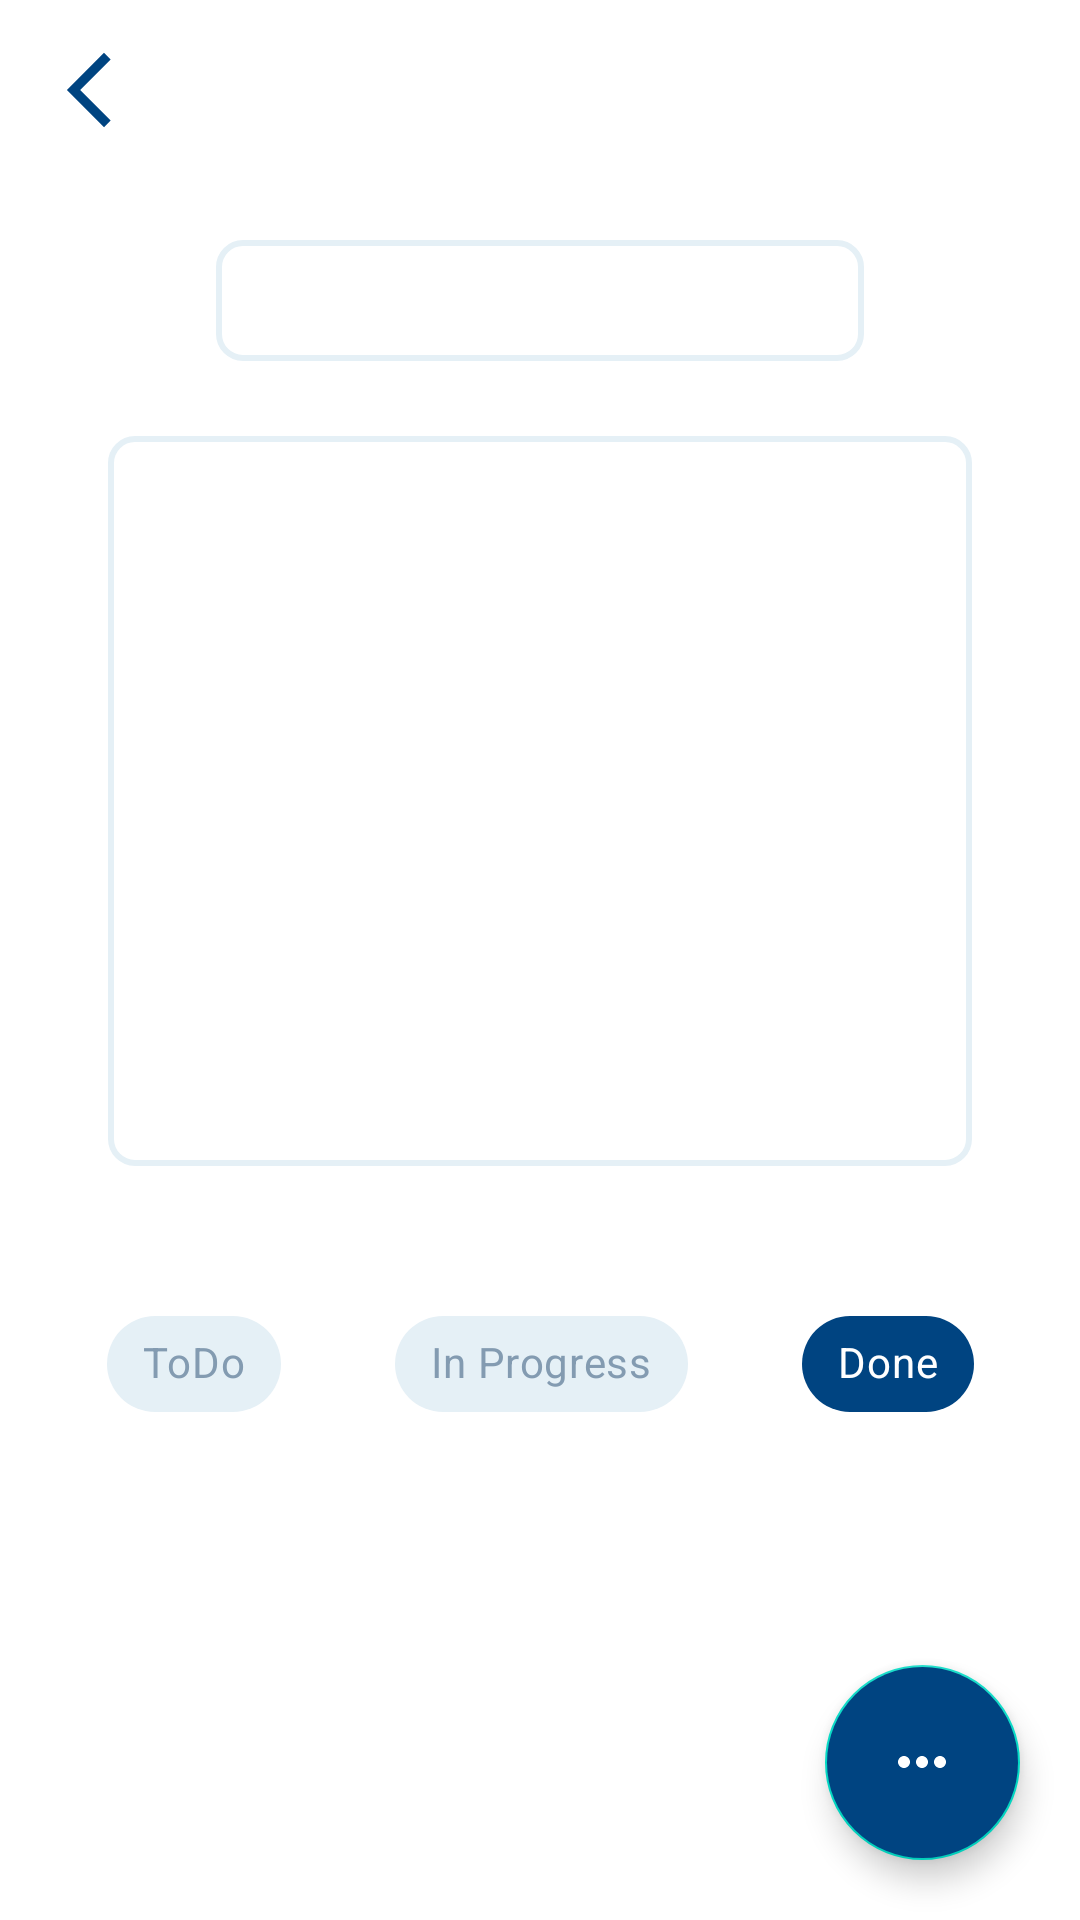

Where icons sit on this 1080px×1920px app screen, as bbox=(x1, y1, x2, y2):
back arrow: bbox=(67, 53, 111, 127)
